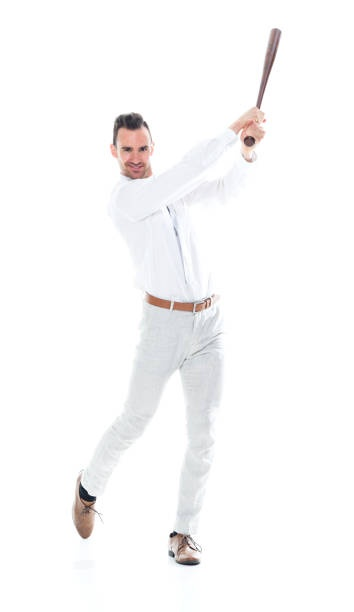bita: (247, 19, 283, 147)
